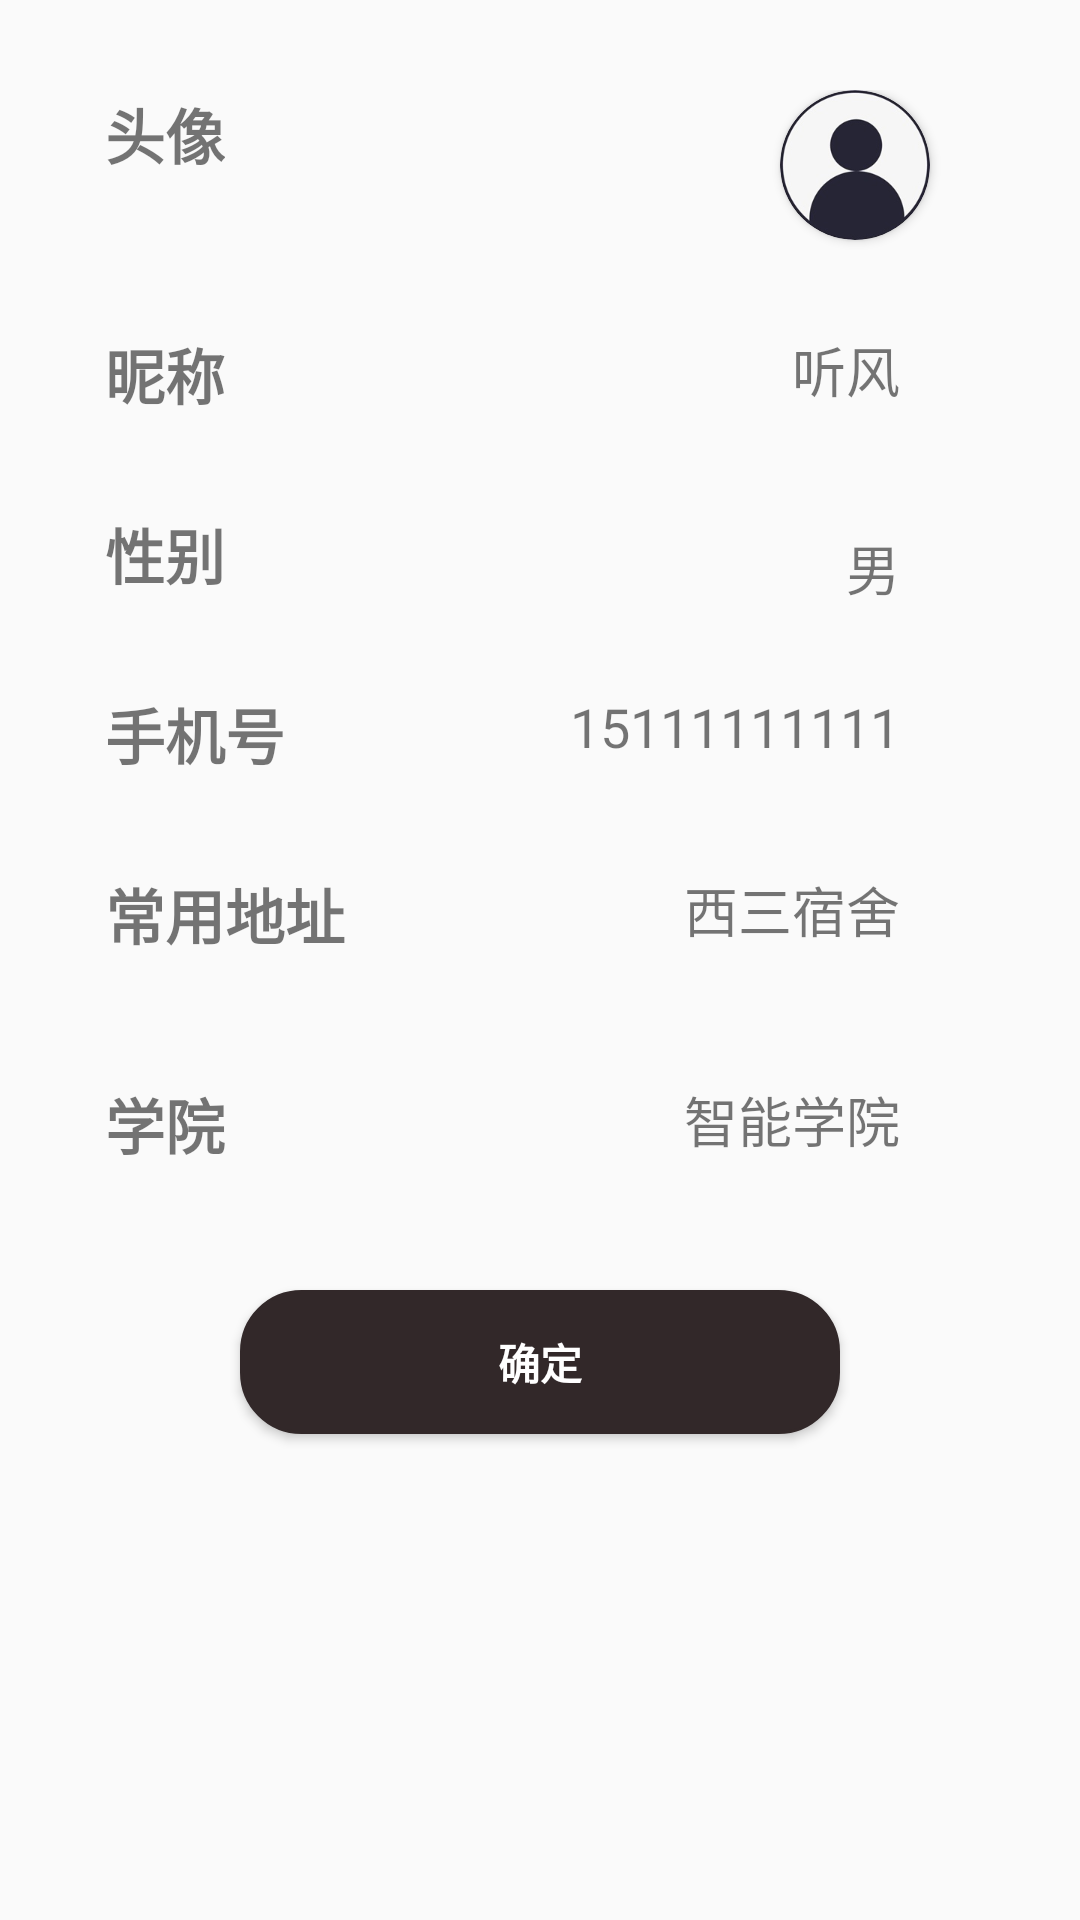

Where to tap for icons on this 1080w x 1920h app screen, as [x,y]:
head pic: [855,165]
